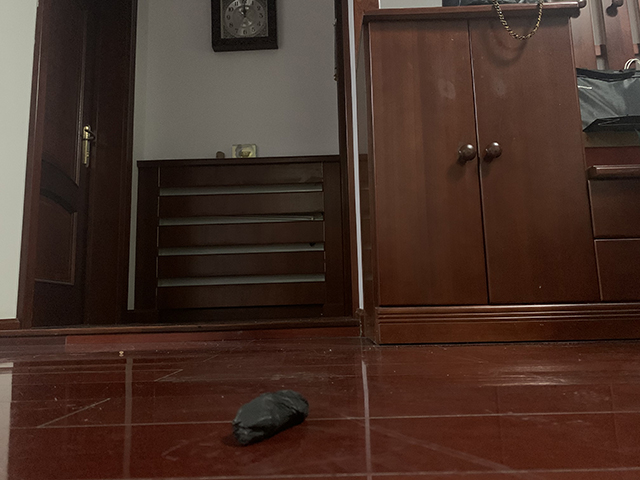cabinet: (355, 1, 613, 345)
feces: (230, 387, 310, 445)
